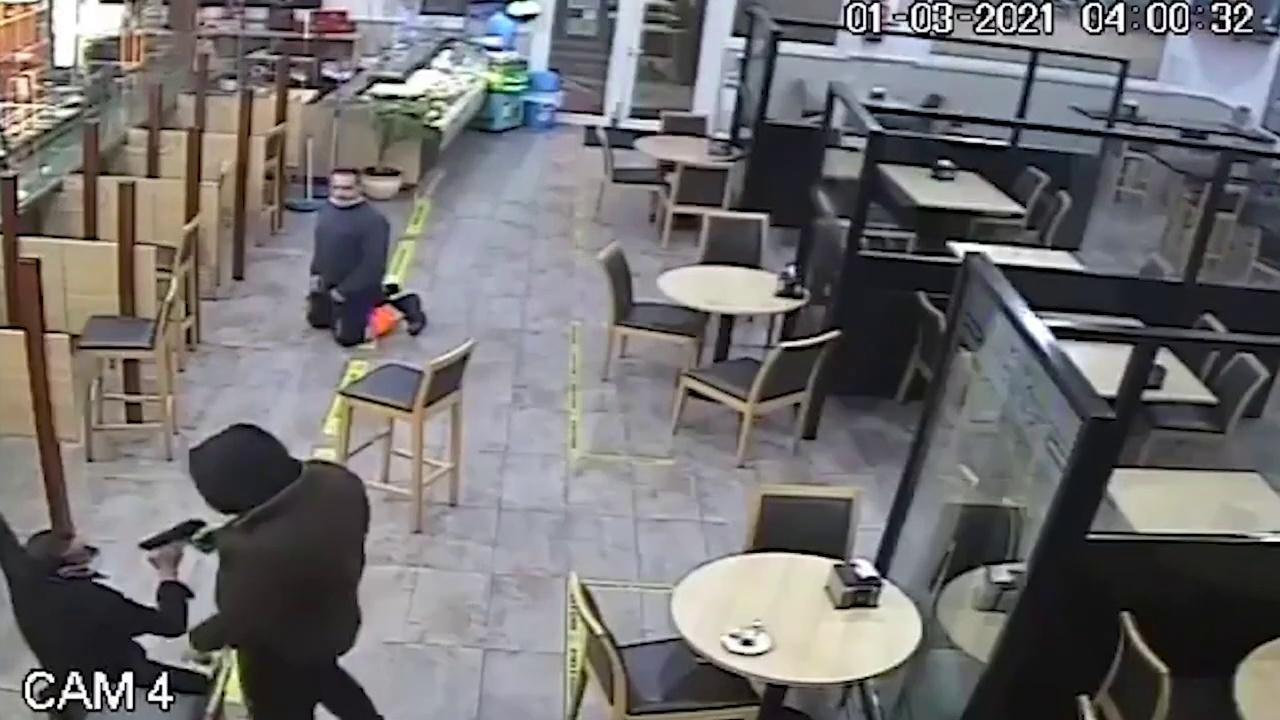Guns perspective: (124, 502, 219, 572)
